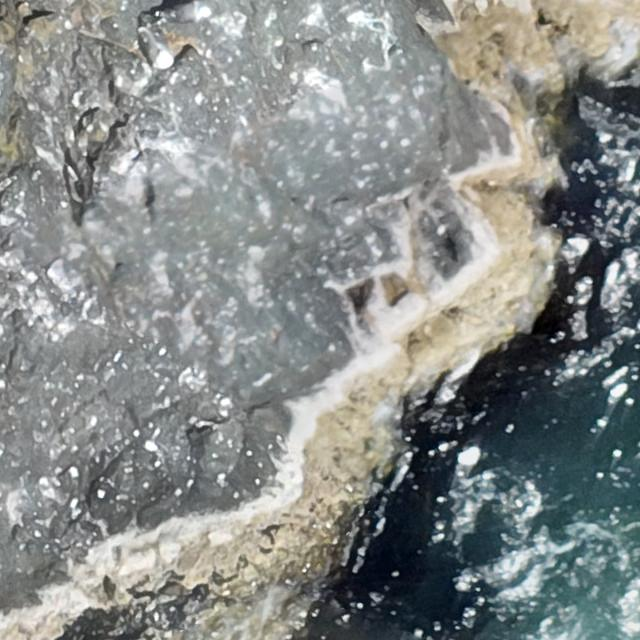umineko: (139, 26, 175, 70)
